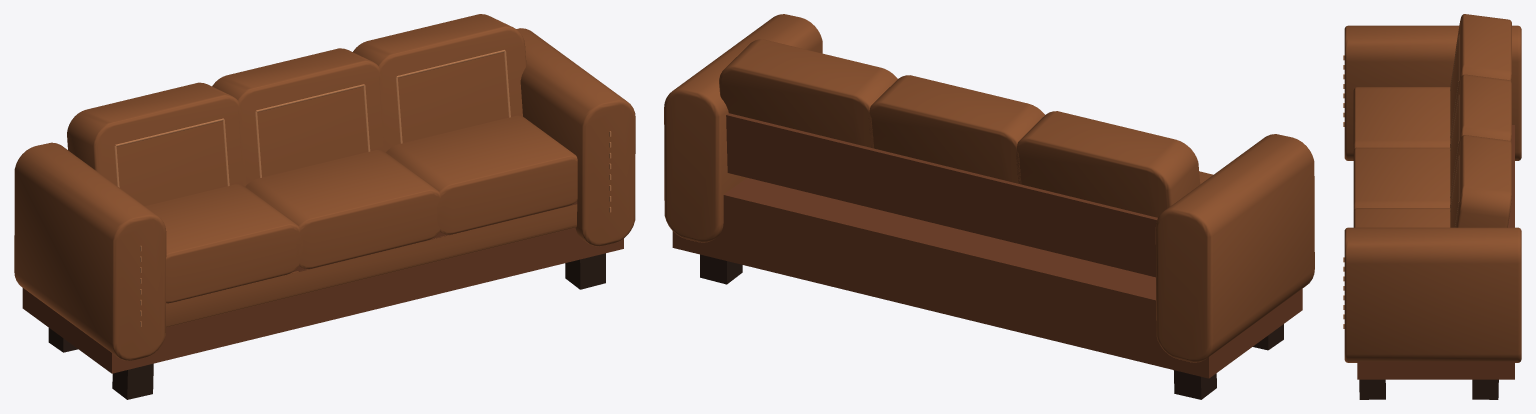
Rendered from cognac-leather-sofa-seatDepth-min.glb.
3 renders of one model, left to right at view 1: azimuth 30°, elevation 25°; view 2: azimuth 150°, elevation 25°; view 3: azimuth 270°, elevation 25°, orthographic. The views are drawn at different scales.
Visible parts, largest first — view 1: sofa-part-28, sofa-part-4, back-cushion-3-part-0, back-cushion-1-part-0, back-cushion-2-part-0, seat-cushion-2-part-0, seat-cushion-1-part-0, sofa-part-7, seat-cushion-3-part-0, sofa-part-5, sofa-part-2, sofa-part-0; view 2: sofa-part-4, sofa-part-28, sofa-part-6, back-cushion-3-part-0, back-cushion-1-part-0, sofa-part-7, back-cushion-2-part-0, sofa-part-3, sofa-part-1; view 3: sofa-part-7, sofa-part-28, seat-cushion-2-part-0, seat-cushion-3-part-0, back-cushion-1-part-0, back-cushion-2-part-0, back-cushion-3-part-0, sofa-part-4, seat-cushion-1-part-0, sofa-part-0, sofa-part-1.
Boxes of the visible parts, x1=… form: sofa-part-28: x1=14, y1=142, x2=166, y2=360; sofa-part-4: x1=22, y1=227, x2=623, y2=373; back-cushion-3-part-0: x1=67, y1=82, x2=246, y2=205; back-cushion-1-part-0: x1=353, y1=14, x2=526, y2=152; back-cushion-2-part-0: x1=212, y1=48, x2=383, y2=184; seat-cushion-2-part-0: x1=245, y1=150, x2=440, y2=268; seat-cushion-1-part-0: x1=386, y1=115, x2=577, y2=234; sofa-part-7: x1=516, y1=28, x2=635, y2=246; seat-cushion-3-part-0: x1=145, y1=184, x2=302, y2=303; sofa-part-5: x1=166, y1=204, x2=577, y2=327; sofa-part-2: x1=112, y1=363, x2=153, y2=399; sofa-part-0: x1=565, y1=253, x2=605, y2=289; sofa-part-4: x1=672, y1=177, x2=1302, y2=378; sofa-part-28: x1=1155, y1=134, x2=1314, y2=362; sofa-part-6: x1=726, y1=113, x2=1157, y2=277; back-cushion-3-part-0: x1=1016, y1=111, x2=1200, y2=217; back-cushion-1-part-0: x1=719, y1=39, x2=897, y2=148; sofa-part-7: x1=664, y1=14, x2=822, y2=242; back-cushion-2-part-0: x1=868, y1=75, x2=1044, y2=184; sofa-part-3: x1=1173, y1=370, x2=1216, y2=399; sofa-part-1: x1=700, y1=254, x2=742, y2=284; sofa-part-7: x1=1344, y1=227, x2=1521, y2=362; sofa-part-28: x1=1344, y1=25, x2=1521, y2=160; seat-cushion-2-part-0: x1=1353, y1=147, x2=1450, y2=210; seat-cushion-3-part-0: x1=1353, y1=87, x2=1450, y2=150; back-cushion-1-part-0: x1=1450, y1=135, x2=1511, y2=227; back-cushion-2-part-0: x1=1450, y1=74, x2=1511, y2=205; back-cushion-3-part-0: x1=1450, y1=14, x2=1511, y2=144; sofa-part-4: x1=1357, y1=125, x2=1514, y2=379; seat-cushion-1-part-0: x1=1353, y1=208, x2=1450, y2=227; sofa-part-0: x1=1359, y1=379, x2=1385, y2=399; sofa-part-1: x1=1472, y1=379, x2=1498, y2=399.
Size of the model in its own units: 2.64 by 1.08 by 0.882.
